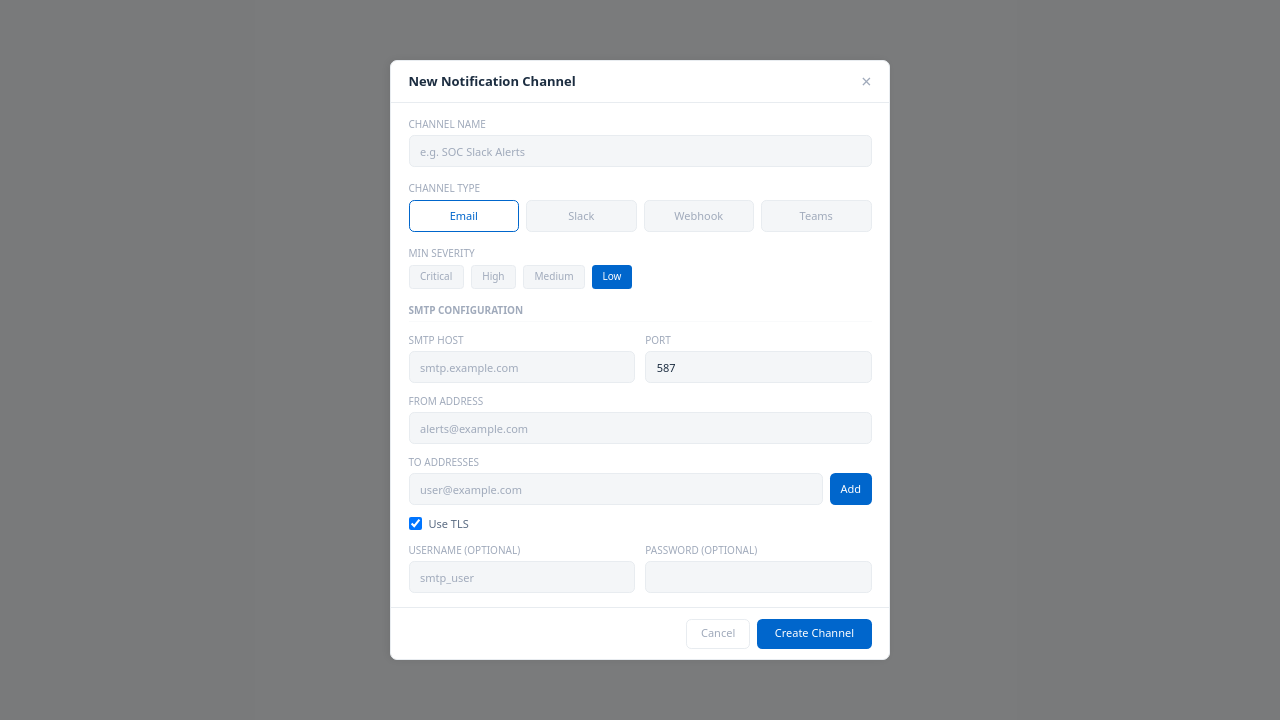
it: ChannelModal › create mode — type switching › shows Slack config when Slack type is selected
Click the button "Slack".
click(581, 216)  # box [526,200,636,232]
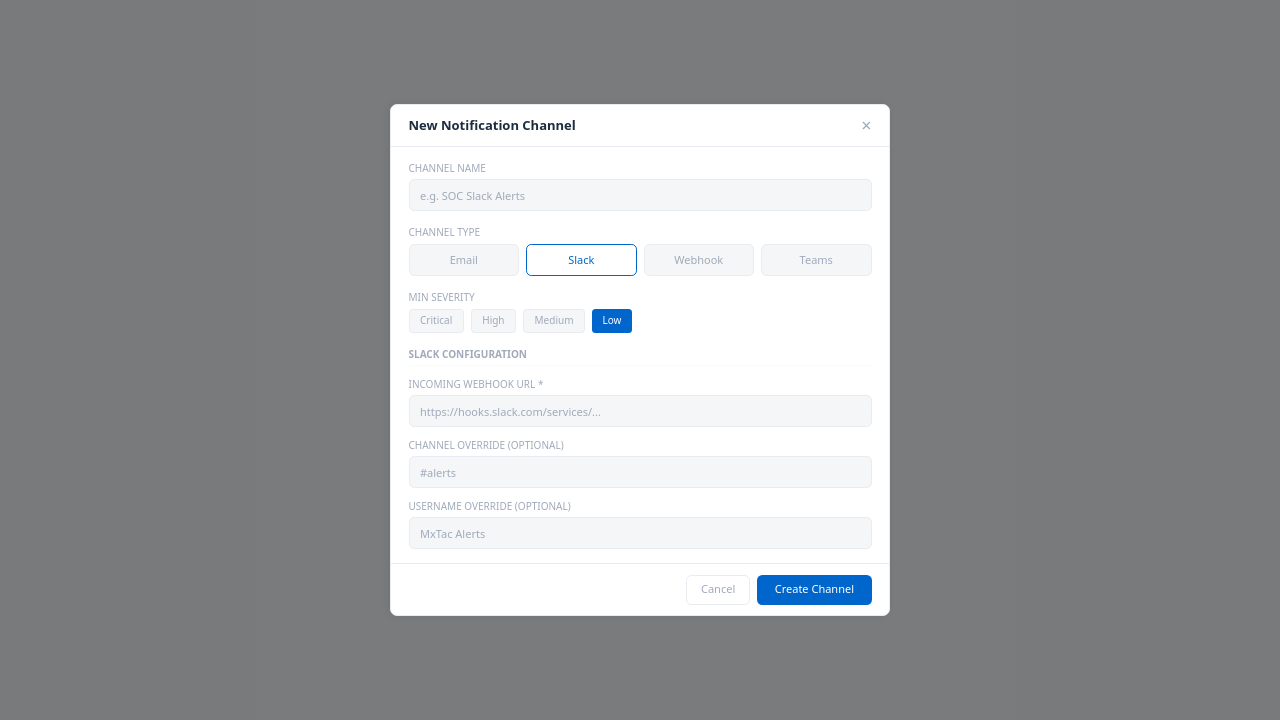
expect the field with placeholder "https://hooks.slack.com/services/..." is shown: met, box [408,395,872,427]
